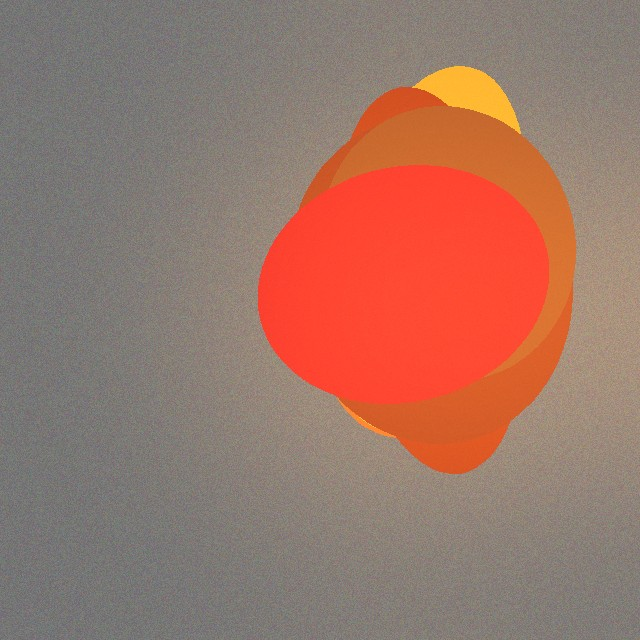fire: (292, 161, 566, 457)
